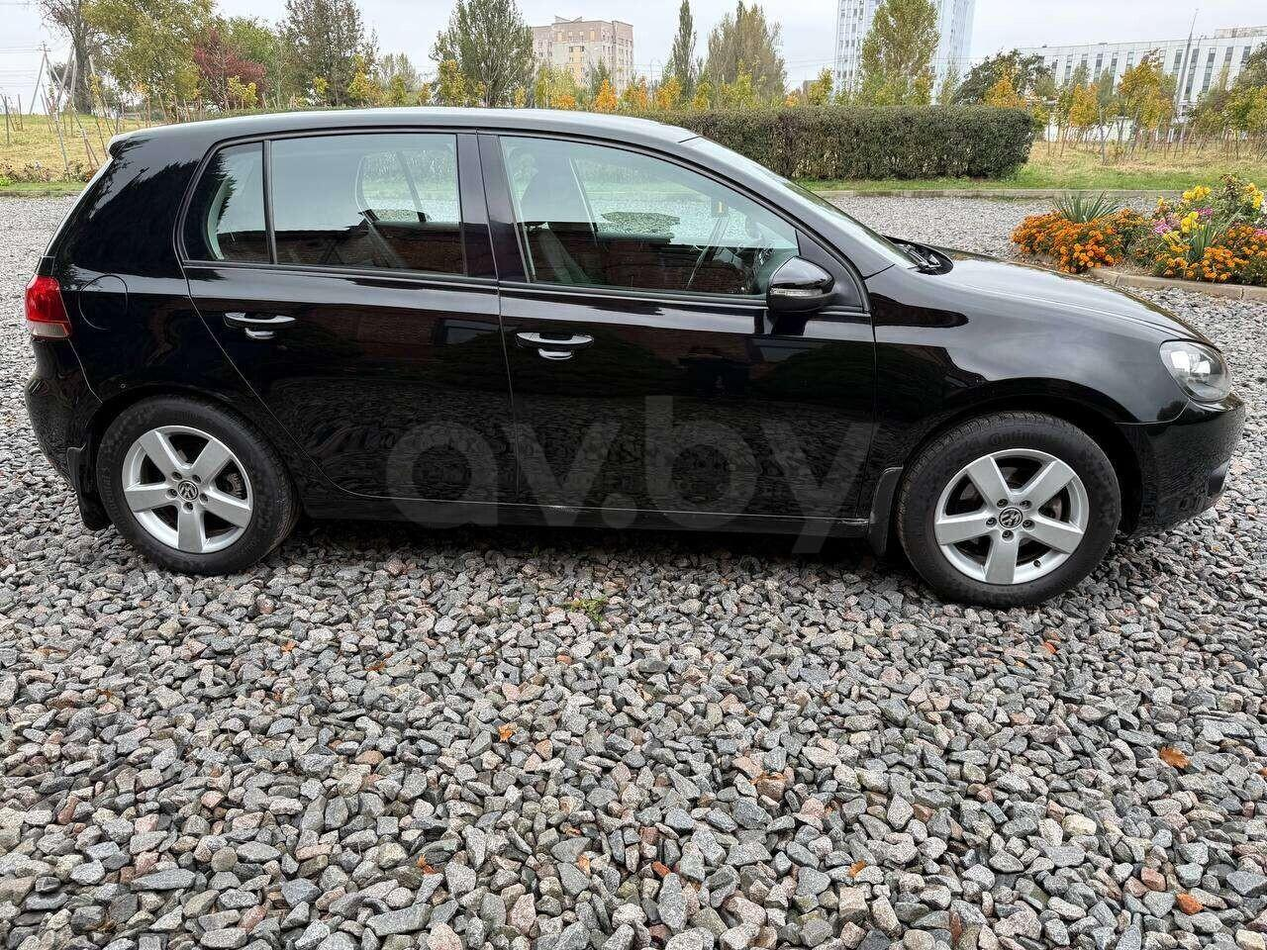Golf_2008-2013: (23, 103, 1251, 607)
